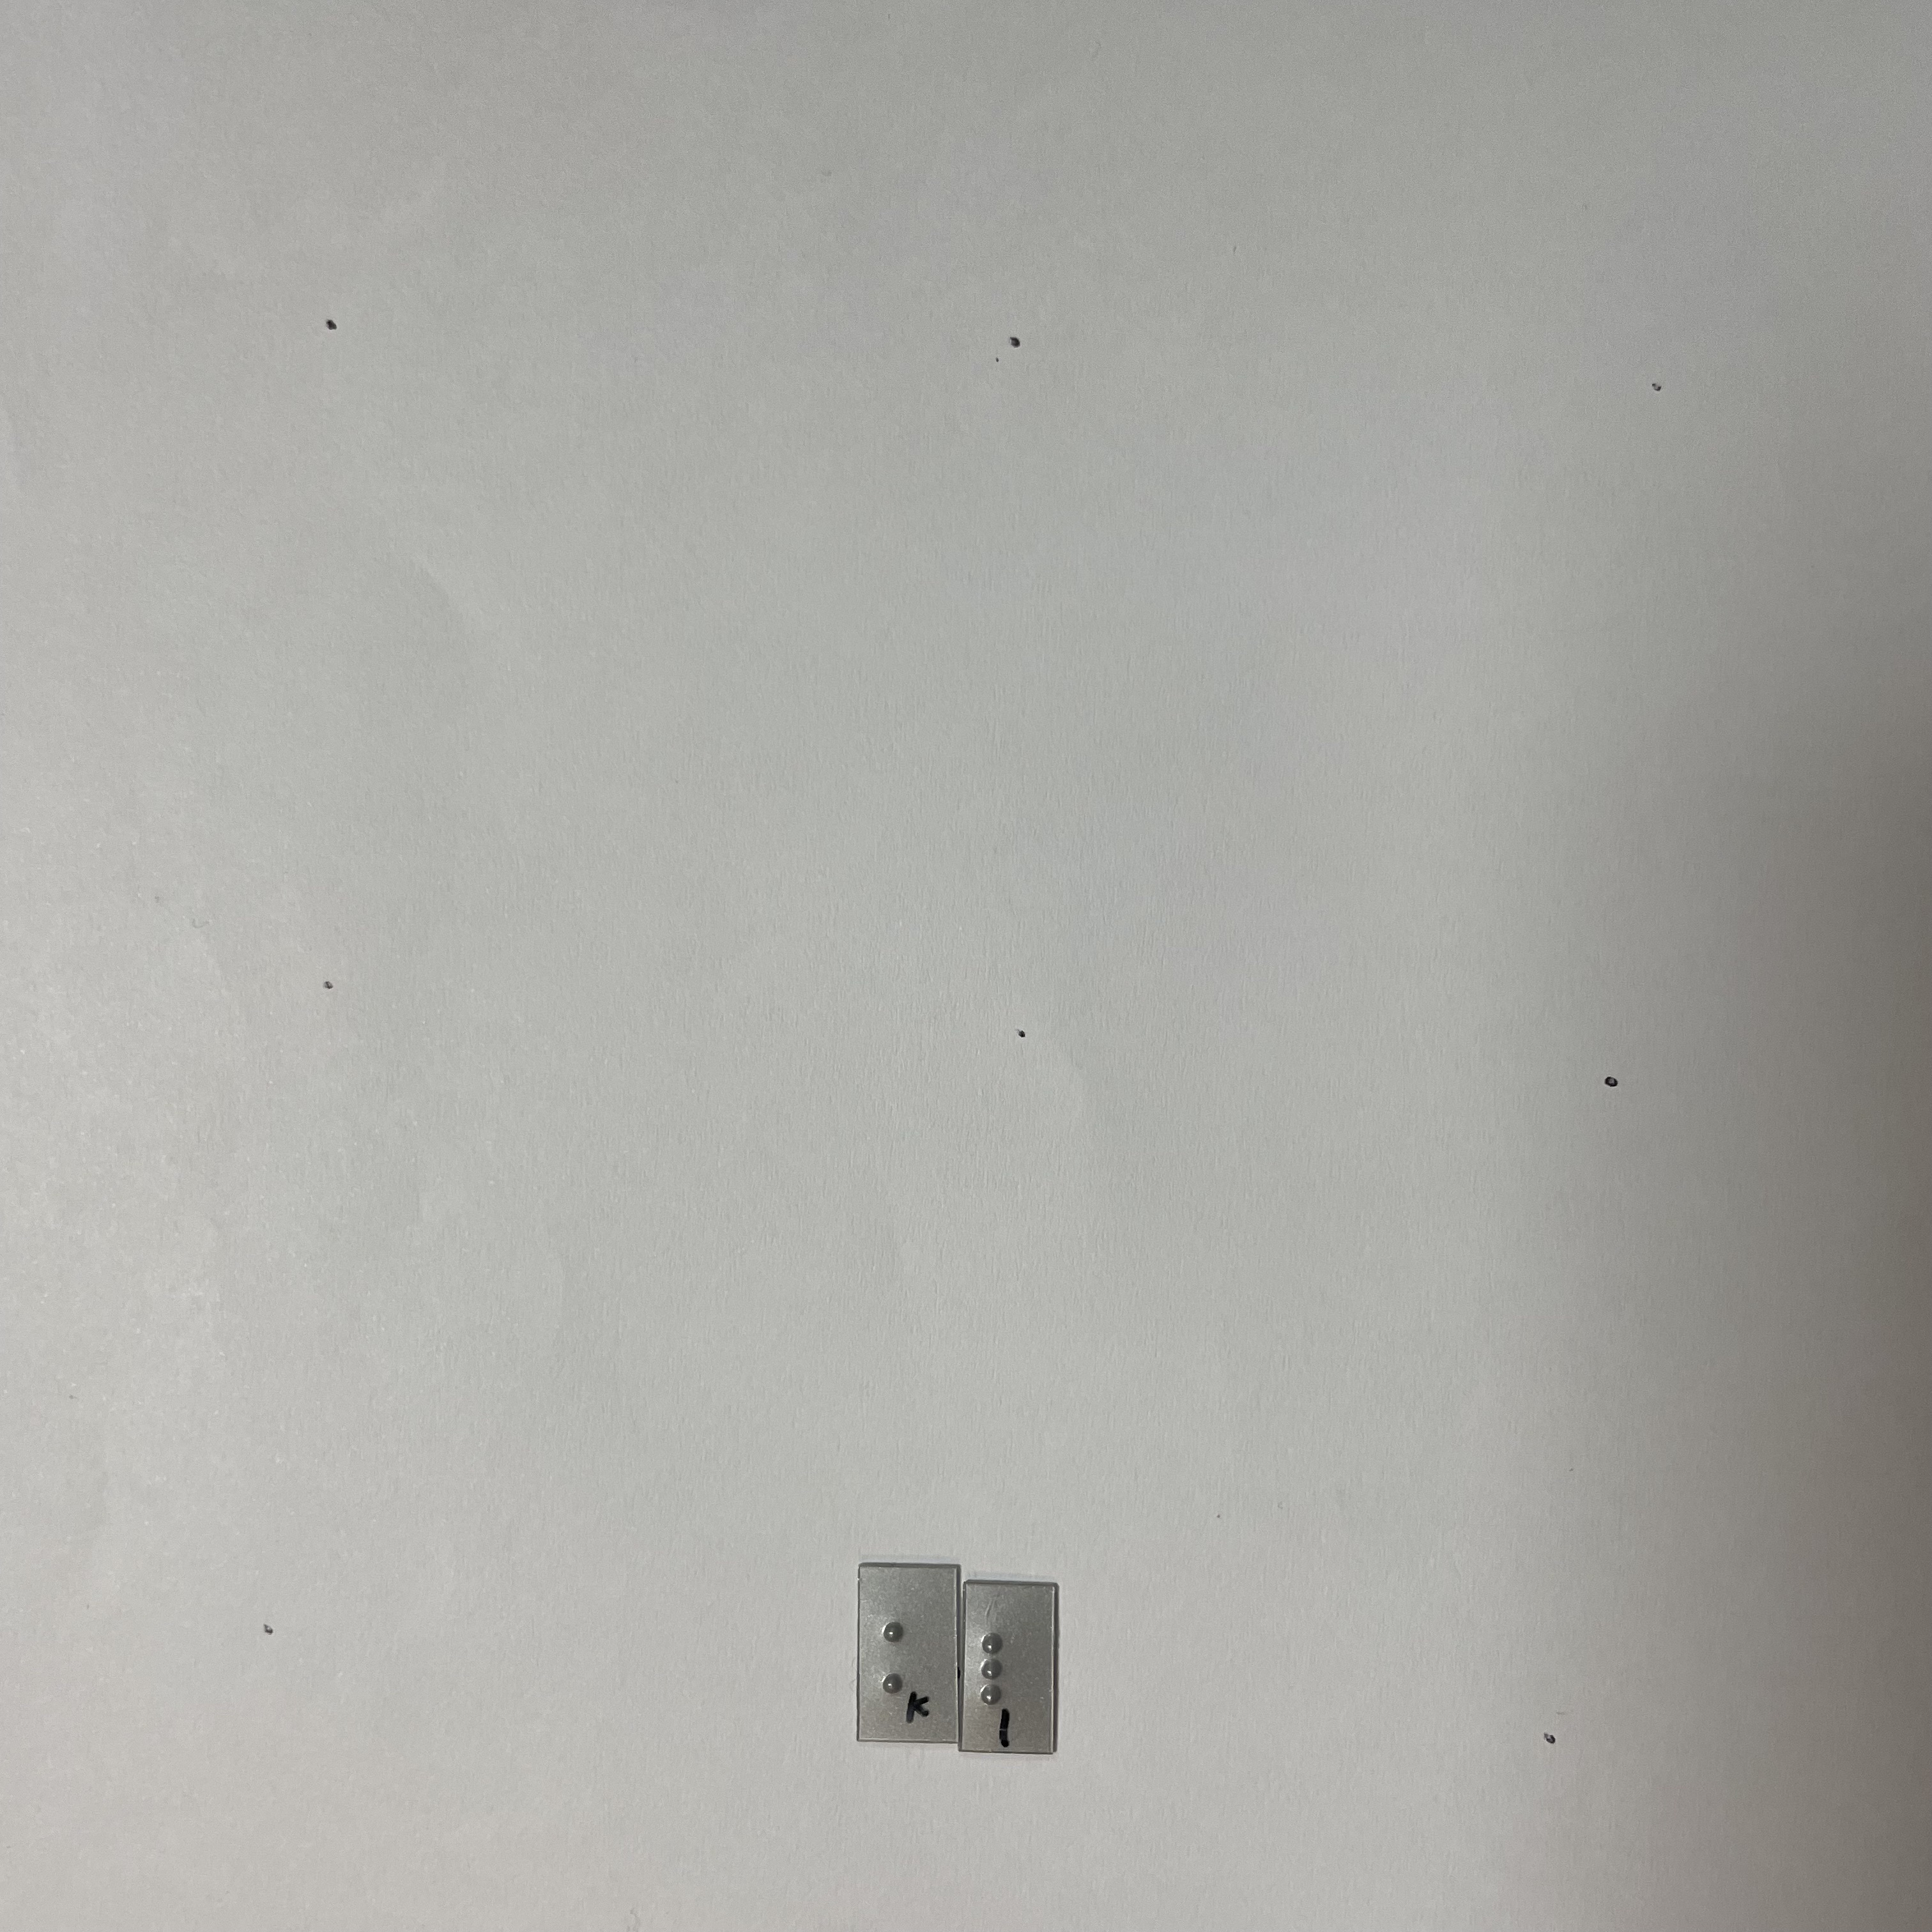k: (878, 1612, 942, 1701)
l: (977, 1623, 1044, 1713)
